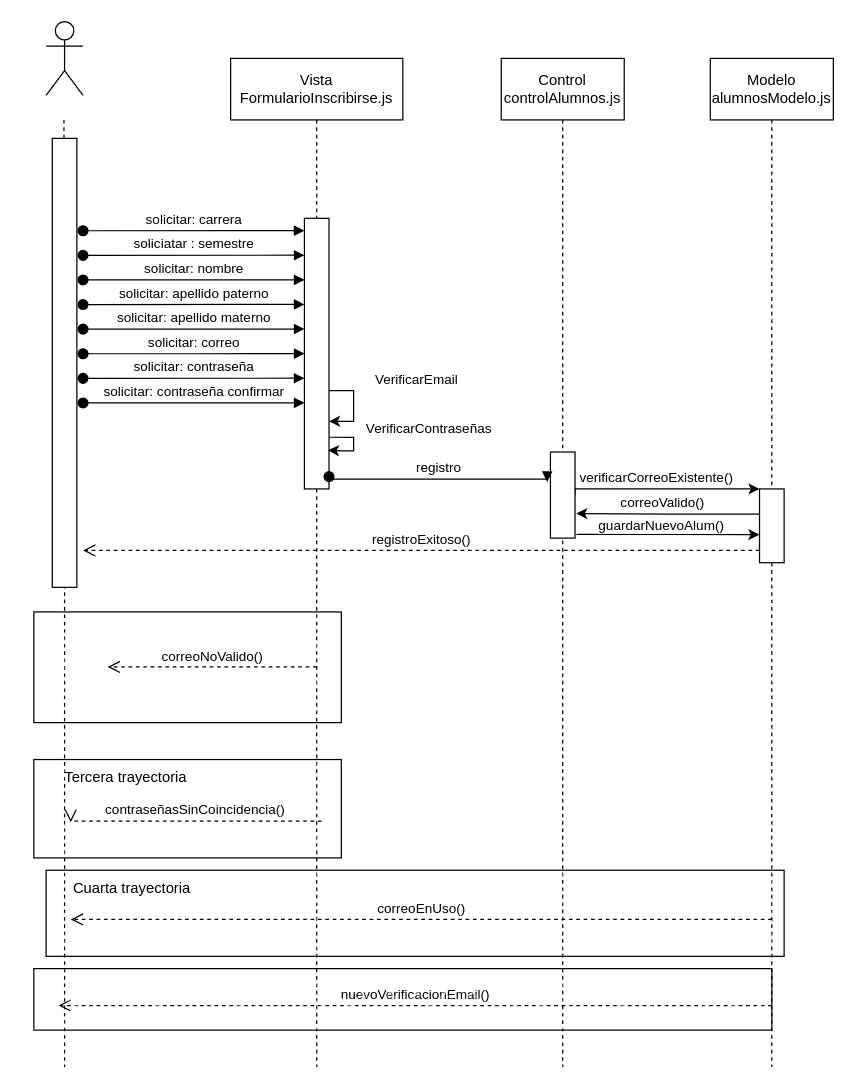
This 855x1090 diagram has some shape labels left out. The centre of each missing label's shape, as x and y in pixels:
"Alumno" belongs at point (64, 57).
"Segunda trayectoria" belongs at point (187, 667).
